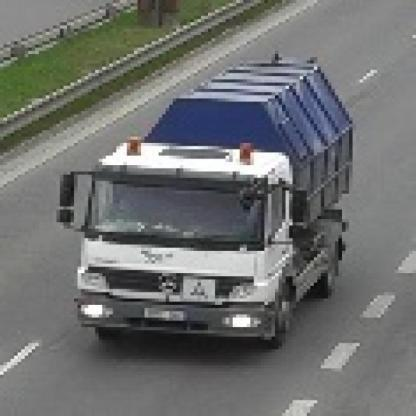truck: (54, 55, 354, 353)
